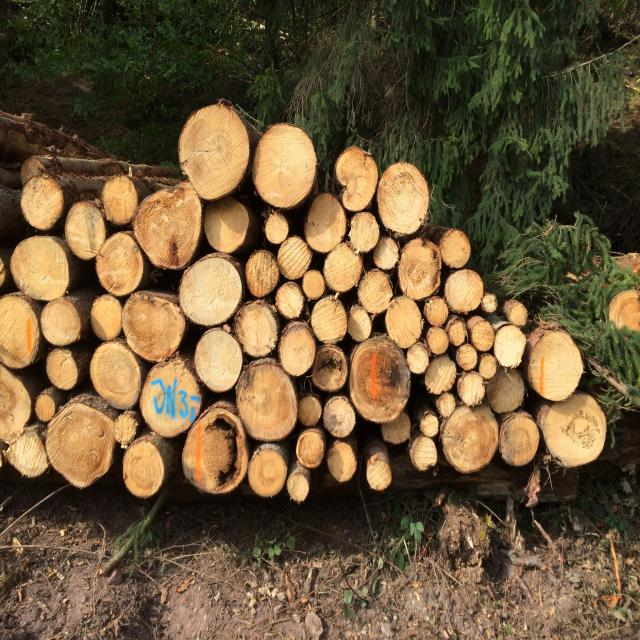wood-log: (179, 107, 252, 200), (44, 398, 114, 488), (133, 185, 202, 271), (347, 337, 411, 425), (254, 123, 318, 208), (233, 360, 297, 444), (142, 358, 206, 439), (541, 390, 605, 466), (184, 418, 246, 496), (180, 253, 244, 326), (122, 291, 188, 361), (529, 328, 586, 399), (376, 164, 431, 235), (9, 238, 69, 303), (439, 403, 496, 471), (87, 342, 141, 409), (96, 232, 146, 298), (196, 328, 246, 393), (0, 294, 42, 369), (336, 148, 380, 212), (398, 240, 443, 302), (62, 200, 108, 259), (233, 299, 280, 356), (204, 195, 251, 252), (303, 192, 347, 252), (0, 367, 31, 447), (18, 176, 62, 231), (124, 436, 164, 496), (277, 323, 317, 378), (501, 413, 540, 467), (41, 296, 83, 346), (386, 296, 426, 348), (325, 243, 365, 294), (248, 444, 287, 496), (6, 424, 45, 476), (486, 367, 526, 414), (101, 177, 139, 226), (311, 296, 348, 344), (444, 269, 484, 313), (357, 269, 395, 314), (247, 250, 281, 299), (89, 296, 122, 344), (323, 396, 358, 439), (277, 237, 311, 280), (425, 354, 460, 394), (47, 349, 80, 391), (310, 356, 348, 392), (494, 326, 526, 368), (439, 228, 472, 268), (328, 439, 358, 482), (296, 429, 328, 469), (349, 211, 380, 252), (275, 282, 306, 320), (381, 410, 412, 444), (409, 437, 438, 472), (456, 372, 484, 407), (374, 235, 402, 269), (367, 453, 392, 490), (347, 305, 373, 340), (423, 295, 449, 328), (471, 319, 495, 353), (300, 268, 326, 299), (266, 214, 291, 246), (35, 389, 58, 423), (407, 341, 430, 375), (300, 395, 324, 427), (286, 469, 310, 501), (503, 296, 527, 325), (458, 341, 478, 371), (429, 328, 450, 356), (420, 412, 439, 438), (451, 320, 467, 348), (481, 353, 499, 377), (483, 294, 499, 316)
